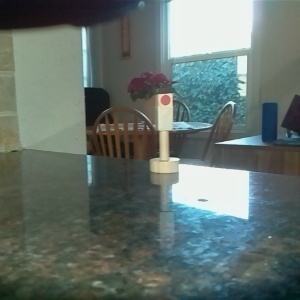traffic light red: (147, 85, 181, 176)
